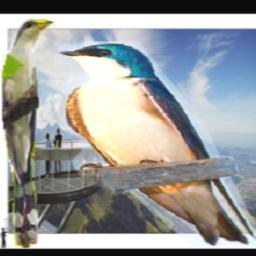Cuckoo: (2, 20, 56, 249)
Swallow: (57, 42, 256, 247)
